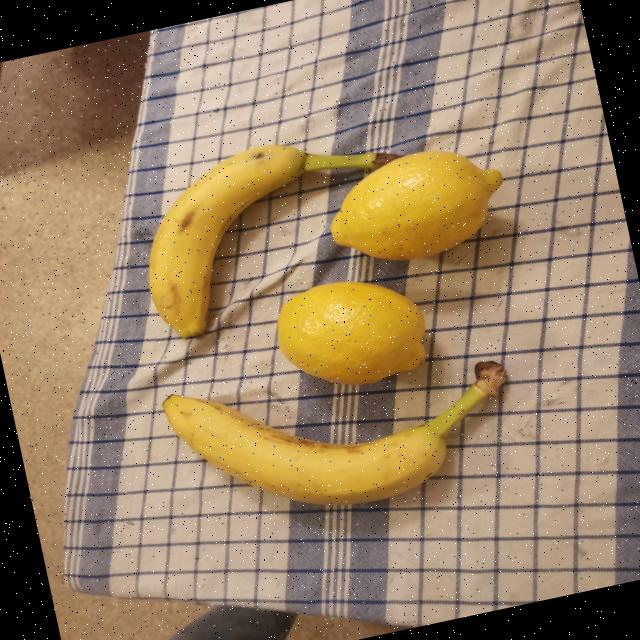banana: (162, 383, 487, 504), (148, 143, 307, 337)
lemon: (330, 149, 501, 259), (277, 280, 425, 384)
